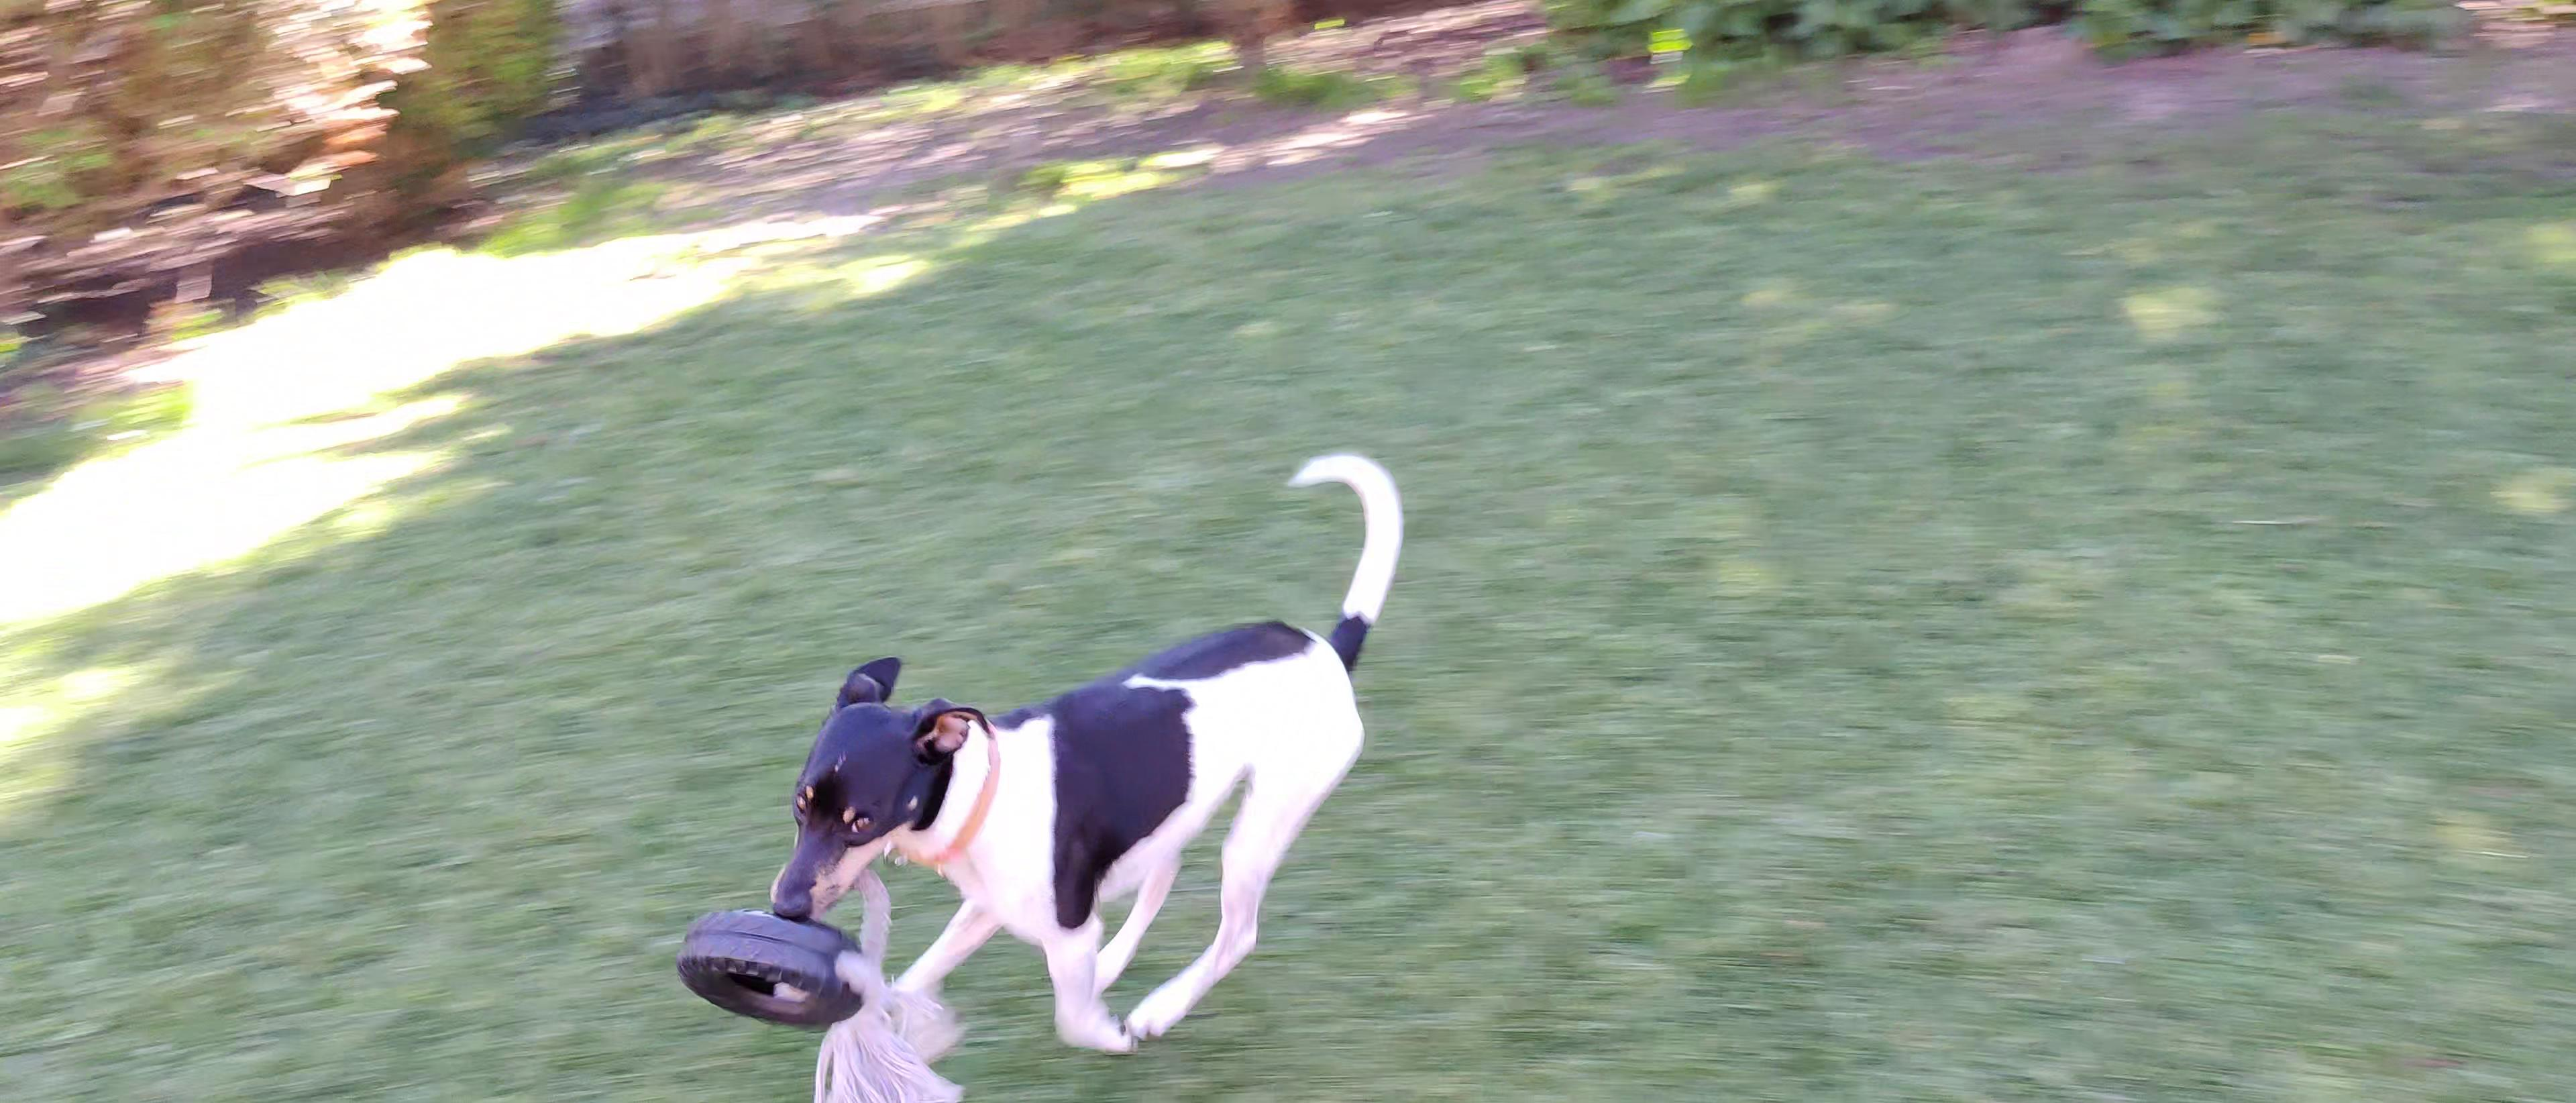Dog: (762, 442, 1414, 1068)
